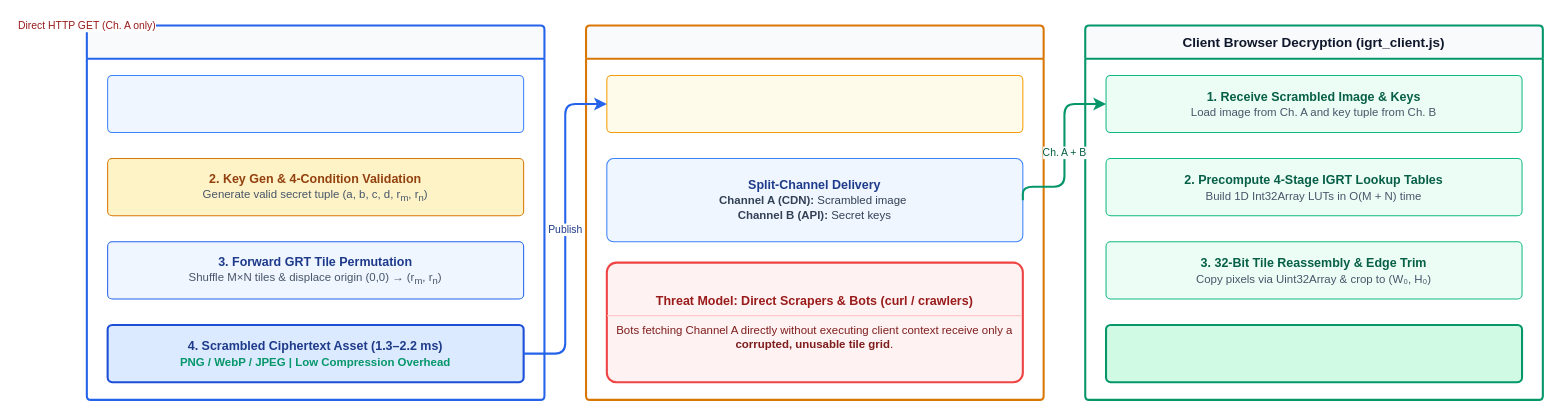
The diagram is 1561 pixels wide and 419 high, and some of its shapes have lost their labels. Here are the shapes that lost their labels. From the top down, the box of each, then its label:
(107, 74, 524, 133): 1. Source Image & Edge Padding Pad (W₀, H₀) to multiple of M×N grid → (W', H')
(606, 74, 1023, 133): Public CDN & API Gateway Standard HTTP web hosting; no custom plugins
(85, 24, 545, 400): Server-Side Encryption (grt_server.py)
(584, 24, 1044, 400): HTTP Split-Channel Network
(1104, 323, 1523, 383): 4. Lossless HTML5 Canvas Render (0.3–0.5 ms) 100% Bit-Exact Recovery (MSE = 0.0)
